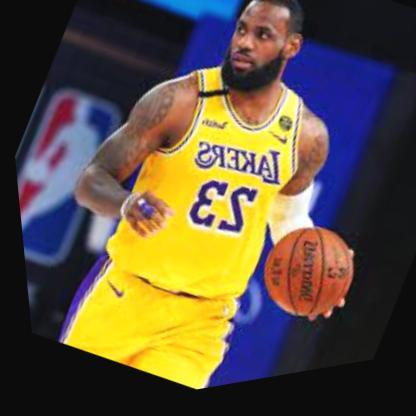basketball: (239, 217, 363, 347)
